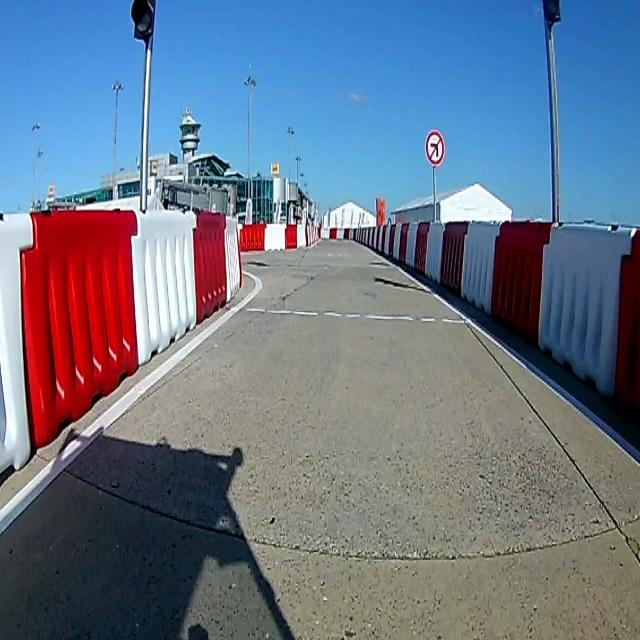soladonulmez: (425, 129, 445, 165)
